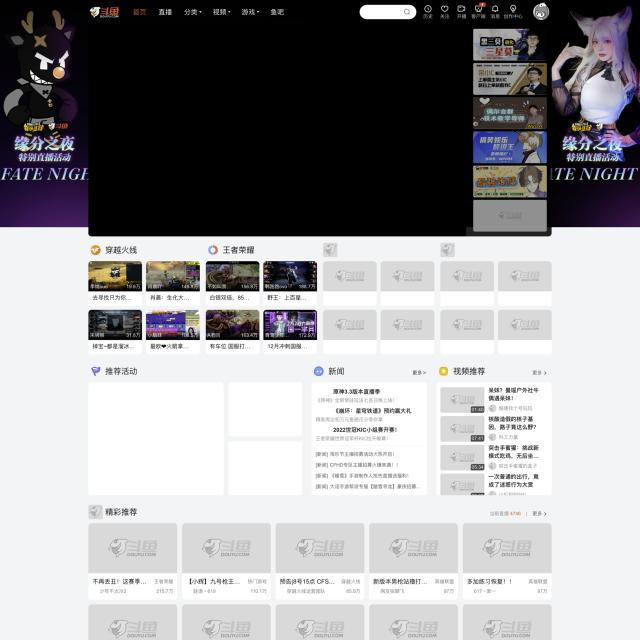CheckedTextView: (359, 4, 416, 20)
ImageView: (550, 0, 640, 226), (0, 0, 88, 227)
RadioButton: (478, 2, 486, 8)
Spinner: (146, 260, 200, 306), (206, 260, 260, 306), (263, 261, 317, 305), (88, 310, 142, 354), (146, 310, 200, 354), (206, 310, 260, 354), (264, 310, 318, 354), (89, 261, 142, 305)
alert: (212, 8, 232, 17), (240, 8, 260, 16), (184, 8, 202, 16)
bag: (83, 0, 551, 26)
carousel: (424, 5, 432, 13), (457, 5, 466, 12), (441, 5, 448, 12), (475, 5, 482, 12), (492, 5, 499, 12), (404, 8, 410, 15), (510, 5, 516, 12)
copy: (146, 260, 200, 292), (264, 261, 318, 292), (206, 309, 260, 340), (264, 309, 317, 340), (206, 261, 260, 291), (146, 310, 200, 340), (89, 261, 142, 291), (89, 310, 142, 340)
data feed: (133, 8, 149, 15), (158, 8, 172, 16), (470, 13, 486, 20), (241, 8, 256, 15), (213, 8, 226, 16), (184, 8, 198, 15), (504, 14, 523, 19), (271, 9, 284, 16), (439, 14, 450, 19), (423, 14, 433, 19), (456, 14, 466, 19), (490, 14, 500, 19)
date picker: (90, 5, 120, 19)
decoration: (422, 2, 524, 20), (132, 7, 286, 17)
